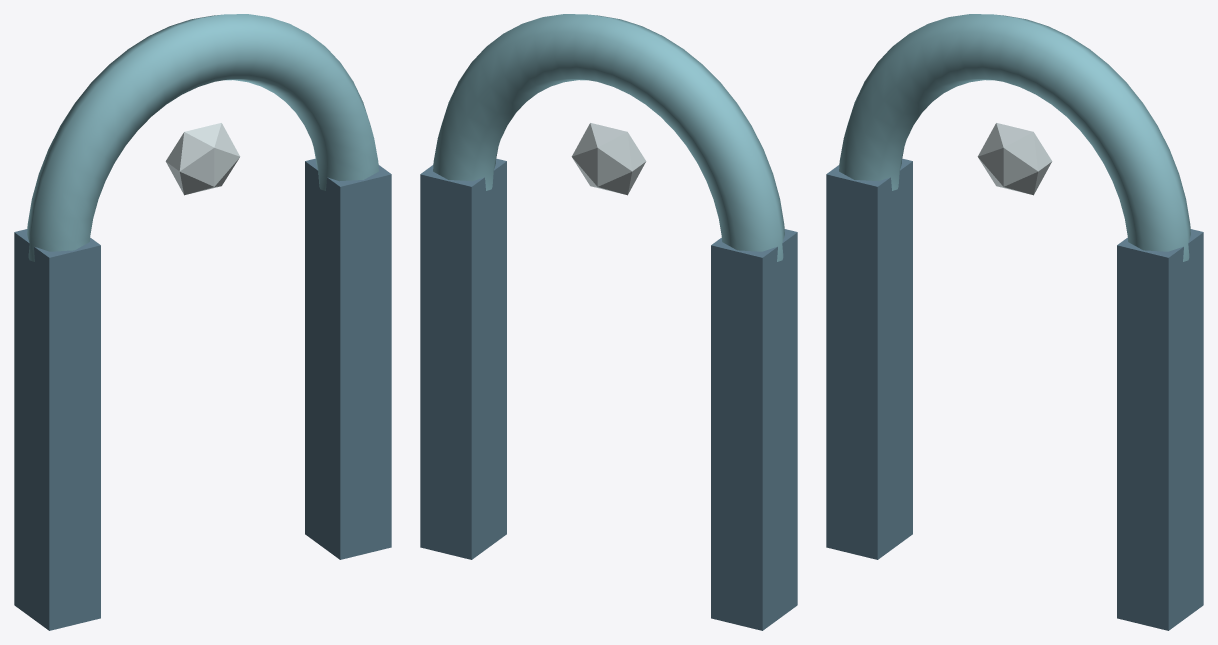
File: gateway.glb
The picture shows the model from 3 angles, left to right: view 1: azimuth 30°, elevation 25°; view 2: azimuth 150°, elevation 25°; view 3: azimuth 330°, elevation 25°; orthographic projection.
Parts seen in each view (by area): view 1: pillar_-1, pillar_1, arch, keystone; view 2: pillar_-1, pillar_1, arch, keystone; view 3: pillar_1, pillar_-1, arch, keystone.
Part boxes in pixels (left/top/right/bottom): pillar_-1: left=14, top=229, right=100, bottom=630; pillar_1: left=305, top=158, right=391, bottom=559; arch: left=27, top=14, right=378, bottom=261; keystone: left=165, top=123, right=240, bottom=195; pillar_-1: left=711, top=229, right=797, bottom=630; pillar_1: left=420, top=158, right=506, bottom=559; arch: left=433, top=14, right=784, bottom=261; keystone: left=571, top=123, right=646, bottom=195; pillar_1: left=1117, top=229, right=1203, bottom=630; pillar_-1: left=826, top=158, right=912, bottom=559; arch: left=839, top=14, right=1190, bottom=261; keystone: left=977, top=123, right=1052, bottom=195.
Size of what is drawn, in the model's own units: 3.7 by 5.69 by 0.65.
